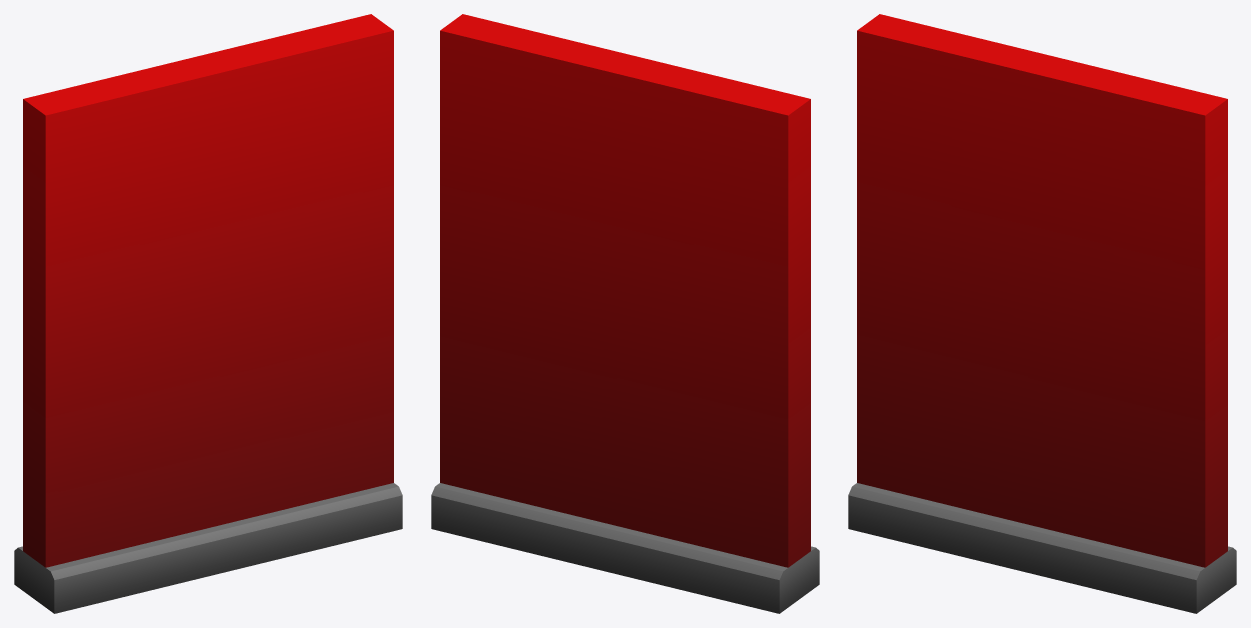
The model's file is Wall_01_C.fbx.
3 renders of one model, left to right at view 1: azimuth 30°, elevation 25°; view 2: azimuth 150°, elevation 25°; view 3: azimuth 330°, elevation 25°, orthographic.
Parts seen in each view (by area): view 1: Wall_01; view 2: Wall_01; view 3: Wall_01.
Part boxes in pixels (x1,y1,x2,y2): Wall_01: (14, 14, 402, 613); Wall_01: (431, 14, 819, 613); Wall_01: (848, 14, 1236, 613).
Bounding box in the file's own units: 200 × 270 × 40.
